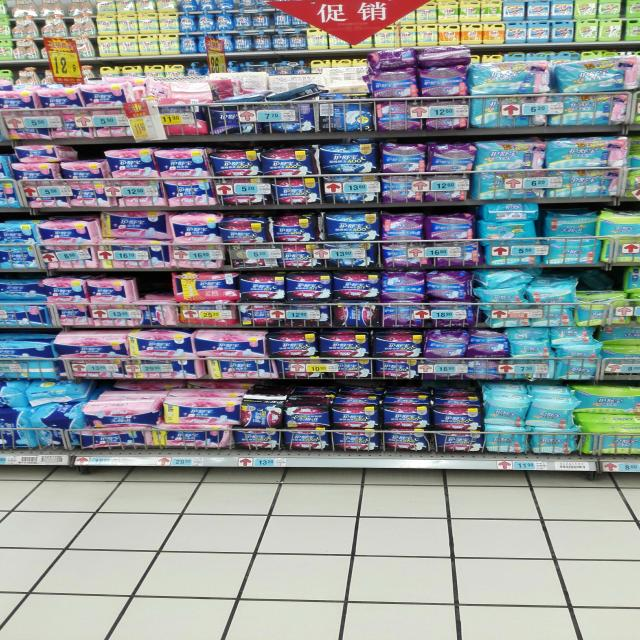unorganised: (238, 392, 287, 427), (526, 276, 577, 303), (419, 46, 470, 65), (475, 270, 528, 288)
